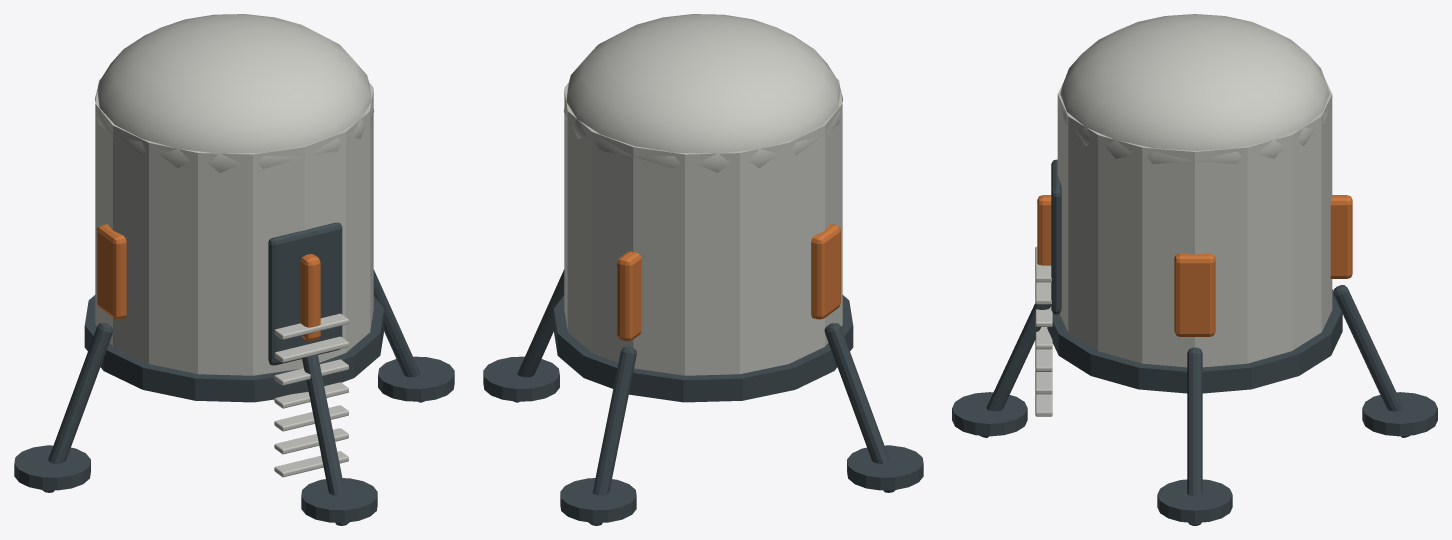
File: lander.glb
3 renders of one model, left to right at view 1: azimuth 30°, elevation 25°; view 2: azimuth 150°, elevation 25°; view 3: azimuth 270°, elevation 25°, orthographic. The views are drawn at different scales.
Parts seen in each view (by area): view 1: lander; view 2: lander; view 3: lander.
Part boxes in pixels (x1=…): lander: x1=14, y1=14, x2=454, y2=525; lander: x1=483, y1=14, x2=923, y2=525; lander: x1=952, y1=14, x2=1437, y2=525.
Bounding box in the file's own units: 7.08 × 6.46 × 7.08.
